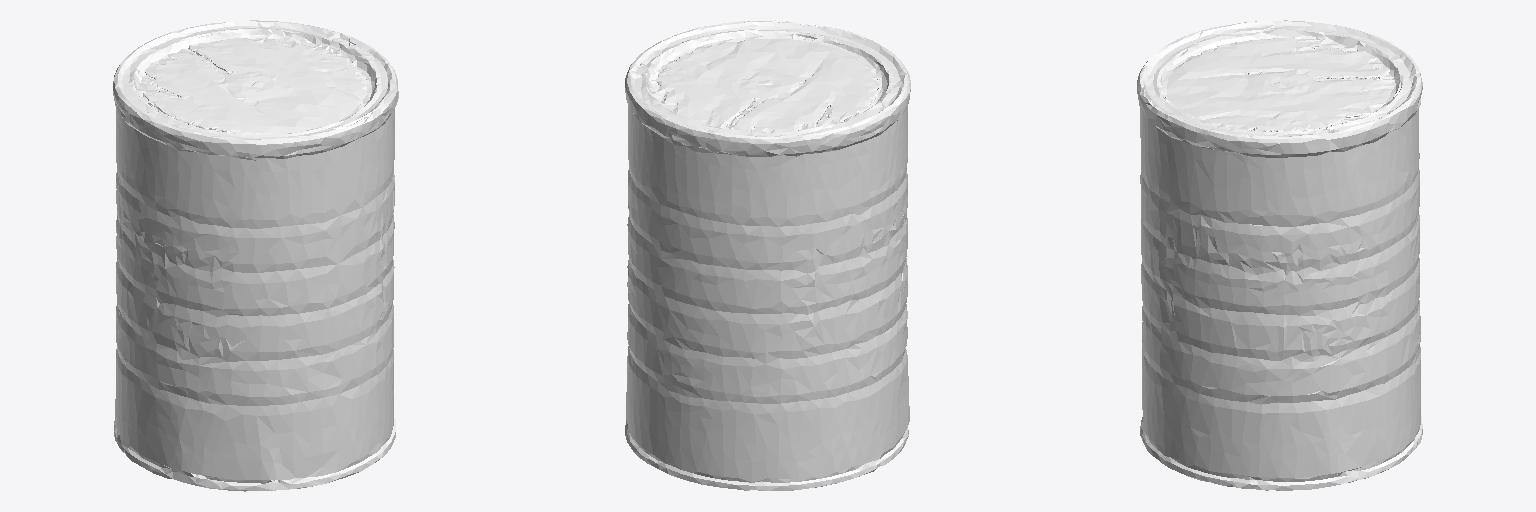
URDF robot description (master_chef_can):
<robot name="master_chef_can">
    <link name="base_link">
        <visual>
            <origin xyz="-0.0 0.0 -0.0" rpy="0.0 0.0 0.0" />
            <geometry>
                <mesh filename="master_chef_can/textured.obj" scale="1 1 1" />
            </geometry>
            <material name="texture">
                <color rgba="1.0 1.0 1.0 1.0" />
            </material>
        </visual>
        <collision>
            <origin xyz="-0.0 0.0 -0.0" rpy="0.0 0.0 0.0" />
            <geometry>
                <mesh filename="master_chef_can/textured_coacd_0.stl" scale="1 1 1" />
            </geometry>
        </collision>
        <collision>
            <origin xyz="-0.0 0.0 -0.0" rpy="0.0 0.0 0.0" />
            <geometry>
                <mesh filename="master_chef_can/textured_coacd_1.stl" scale="1 1 1" />
            </geometry>
        </collision>
        <collision>
            <origin xyz="-0.0 0.0 -0.0" rpy="0.0 0.0 0.0" />
            <geometry>
                <mesh filename="master_chef_can/textured_coacd_2.stl" scale="1 1 1" />
            </geometry>
        </collision>
        <collision>
            <origin xyz="-0.0 0.0 -0.0" rpy="0.0 0.0 0.0" />
            <geometry>
                <mesh filename="master_chef_can/textured_coacd_3.stl" scale="1 1 1" />
            </geometry>
        </collision>
        <collision>
            <origin xyz="-0.0 0.0 -0.0" rpy="0.0 0.0 0.0" />
            <geometry>
                <mesh filename="master_chef_can/textured_coacd_4.stl" scale="1 1 1" />
            </geometry>
        </collision>
        <inertial>
            <mass value="0.414" />
            <inertia ixx="1e-3" ixy="0.0" ixz="0.0" iyy="1e-3" iyz="0.0" izz="1e-3" />
        </inertial>
    </link>
</robot>

--- Render facts (derived) ---
The picture shows the robot from 3 angles, left to right: view 1: azimuth 30°, elevation 25°; view 2: azimuth 150°, elevation 25°; view 3: azimuth 270°, elevation 25°; orthographic projection.
Robot: master_chef_can — 1 links, 0 joints (none); root link base_link; default pose: every joint at zero.
Visible links, largest first — view 1: base_link; view 2: base_link; view 3: base_link.
Link boxes in pixels (x1,y1,x2,y2): base_link: (113,20,398,491); base_link: (625,20,910,490); base_link: (1137,20,1422,490).
Size in the robot's own frame: 0.1024 by 0.1025 by 0.1403 metres.
1 mesh visuals loaded from 1 distinct referenced files (1 OBJ).